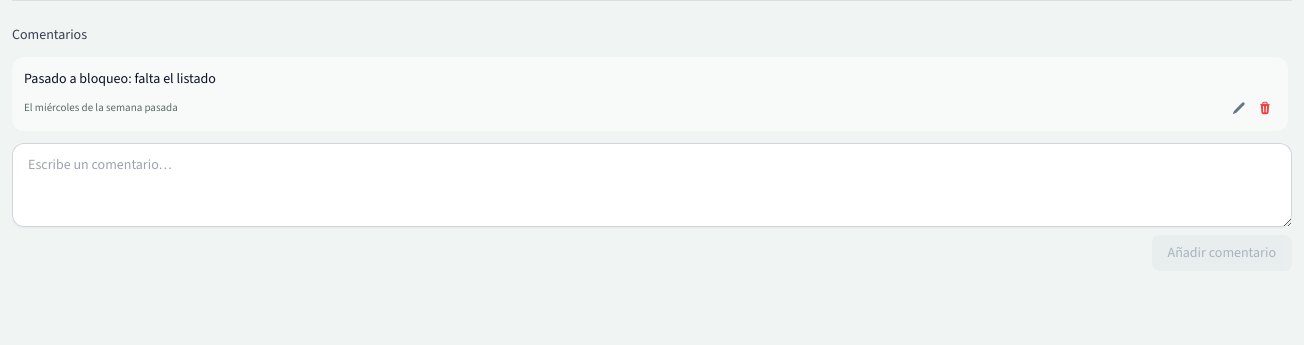
Test: TaskComments › edita un comentario
expect the text "Pasado a bloqueo: falta el listado" is shown: met, box [24,69,216,88]
Click the button named "Editar comentario" at (1239, 108), box [1228,97,1250,119]
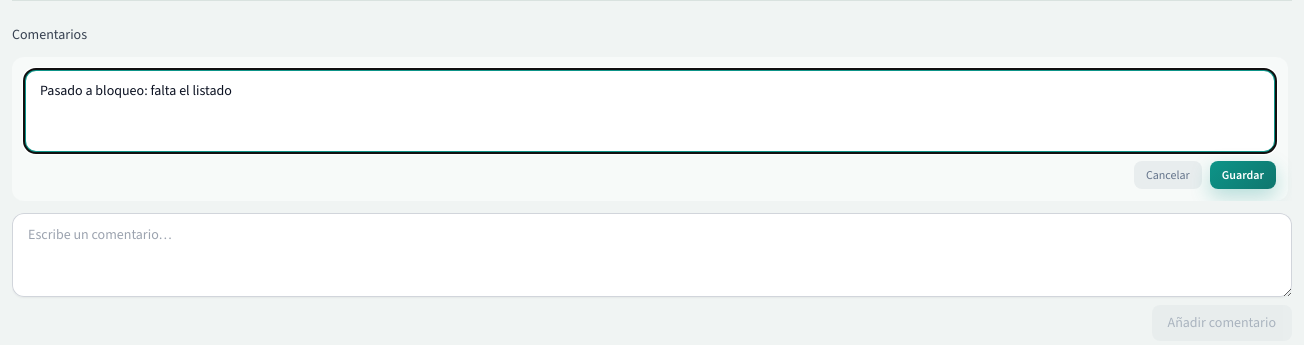
Replace the text in the text box named "Editar comentario" with "Texto editado" at (650, 111), box [24,69,1276,153]
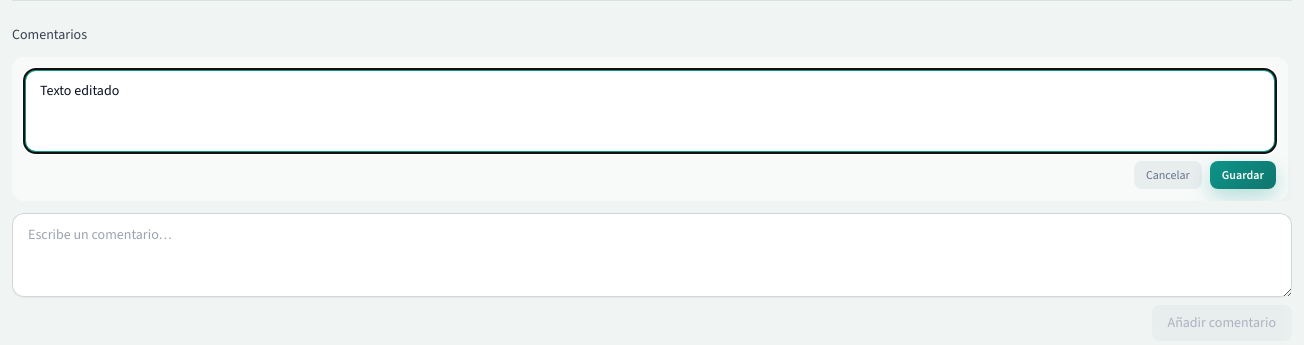
Click the button "Guardar" at (1243, 175), box [1210,161,1276,189]
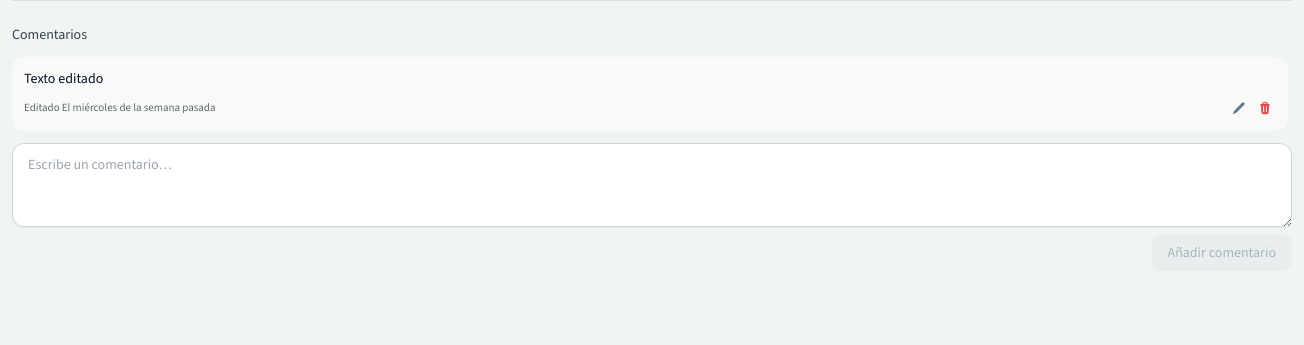
expect the text "Texto editado" is shown: met, box [24,69,103,88]
